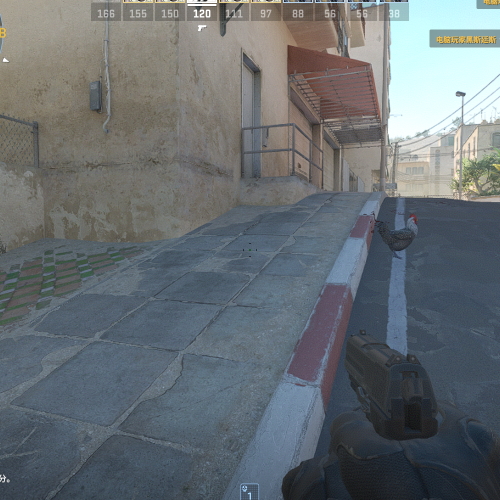chicken: (375, 210, 419, 260)
